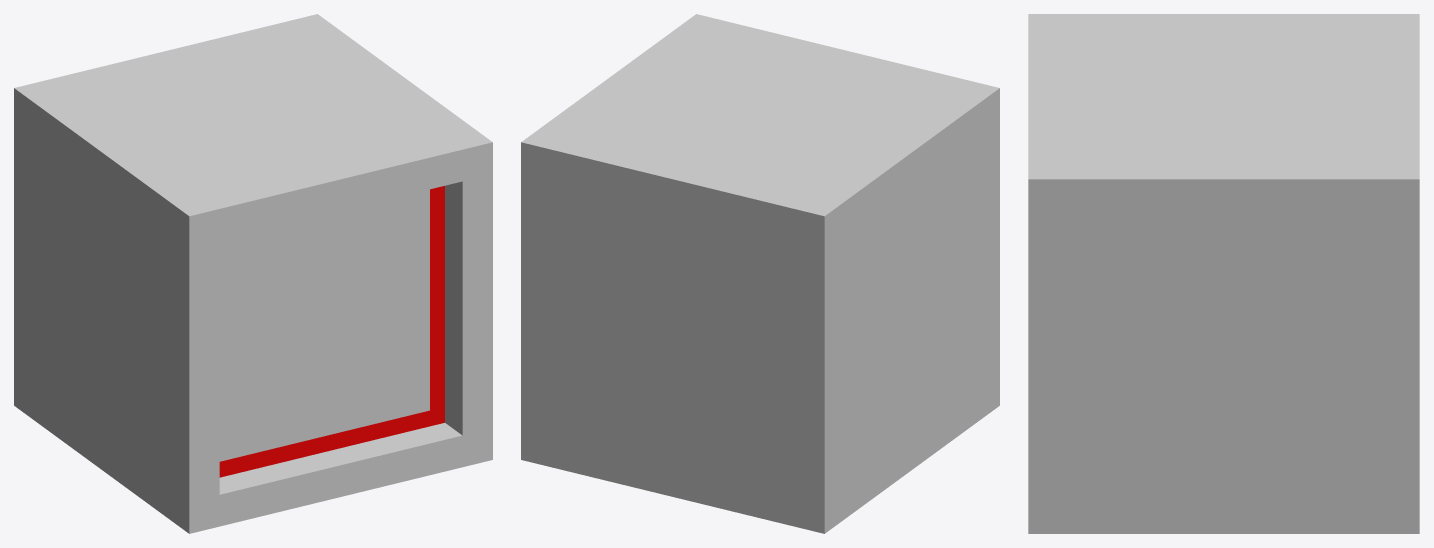
Rendered from Disparador.fbx.
3 renders of one model, left to right at view 1: azimuth 30°, elevation 25°; view 2: azimuth 150°, elevation 25°; view 3: azimuth 270°, elevation 25°, orthographic. The views are drawn at different scales.
Visible parts, largest first — view 1: Cube; view 2: Cube; view 3: Cube.
Boxes of the visible parts, <box> form: Cube: <box>14,14,492,533</box>; Cube: <box>521,14,999,533</box>; Cube: <box>1028,14,1419,533</box>.
Size of the model in its own units: 1 by 1 by 1.
